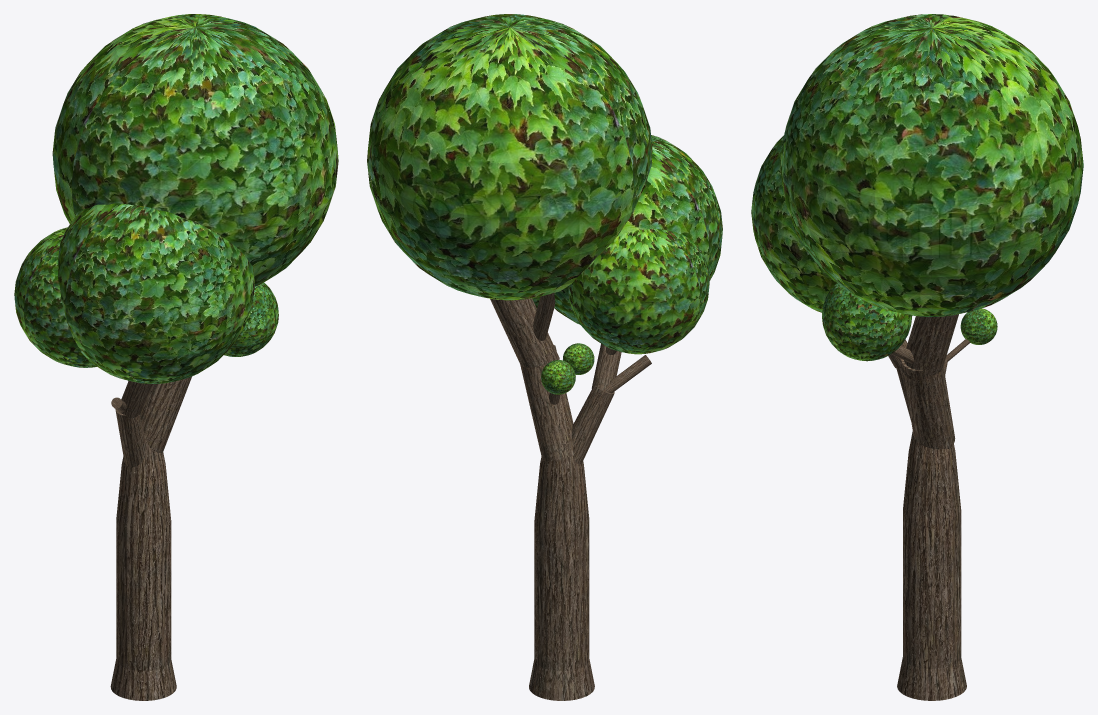
The model's file is happylittletree2.obj.
3 renders of one model, left to right at view 1: azimuth 30°, elevation 25°; view 2: azimuth 150°, elevation 25°; view 3: azimuth 270°, elevation 25°, orthographic. The views are drawn at different scales.
Parts seen in each view (by area): view 1: Sphere, Sphere.001, Cylinder, Sphere.004, Cylinder.003, Sphere.002, Cylinder.002, Cylinder.005; view 2: Sphere, Sphere.004, Cylinder, Sphere.001, Cylinder.003, Cylinder.006, Cylinder.002, Sphere.006, Cylinder.005, Cylinder.001, Sphere.005, Cylinder.011; view 3: Sphere, Cylinder, Sphere.001, Sphere.002, Cylinder.003, Cylinder.006, Sphere.006.
Part boxes in pixels (x1,y1,x2,y2): Sphere: (52, 14, 338, 286); Sphere.001: (58, 203, 254, 383); Cylinder: (110, 444, 176, 700); Sphere.004: (14, 227, 96, 367); Cylinder.003: (139, 376, 191, 452); Sphere.002: (224, 282, 278, 356); Cylinder.002: (115, 409, 146, 467); Cylinder.005: (121, 381, 150, 418); Sphere: (367, 14, 652, 300); Sphere.004: (568, 229, 709, 354); Cylinder: (529, 442, 594, 700); Sphere.001: (554, 135, 722, 324); Cylinder.003: (520, 345, 574, 461); Cylinder.006: (490, 298, 559, 367); Cylinder.002: (571, 385, 614, 464); Sphere.006: (541, 360, 575, 394); Cylinder.005: (591, 343, 621, 390); Cylinder.001: (533, 293, 555, 340); Sphere.005: (563, 343, 594, 374); Cylinder.011: (604, 355, 651, 393); Sphere: (780, 14, 1083, 316); Cylinder: (897, 431, 966, 700); Sphere.001: (751, 135, 836, 312); Sphere.002: (822, 283, 911, 361); Cylinder.003: (901, 359, 955, 449); Cylinder.006: (901, 314, 958, 382); Sphere.006: (960, 308, 997, 344).
Size of the model in its own units: 3.2 by 6.48 by 2.85.
11 materials, 11 textured.
